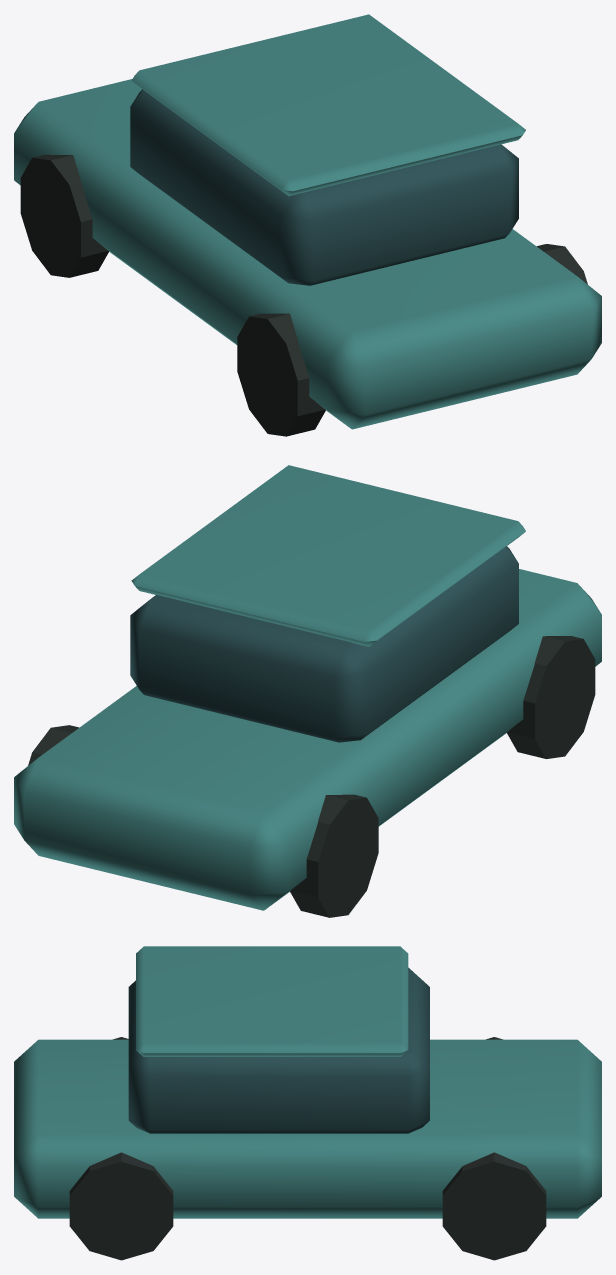
File: parked_car.glb
3 views of the same model, one above another, from view 1: azimuth 30°, elevation 25°; view 2: azimuth 150°, elevation 25°; view 3: azimuth 270°, elevation 25° (orthographic). The views are drawn at different scales.
Visible parts, largest first — view 1: parked_car; view 2: parked_car; view 3: parked_car.
Part boxes in pixels (<box>): parked_car: <box>14,14,601,436</box>; parked_car: <box>14,465,601,917</box>; parked_car: <box>14,946,601,1260</box>.
Bounding box in the file's own units: 2.06 × 1.56 × 4.1.
